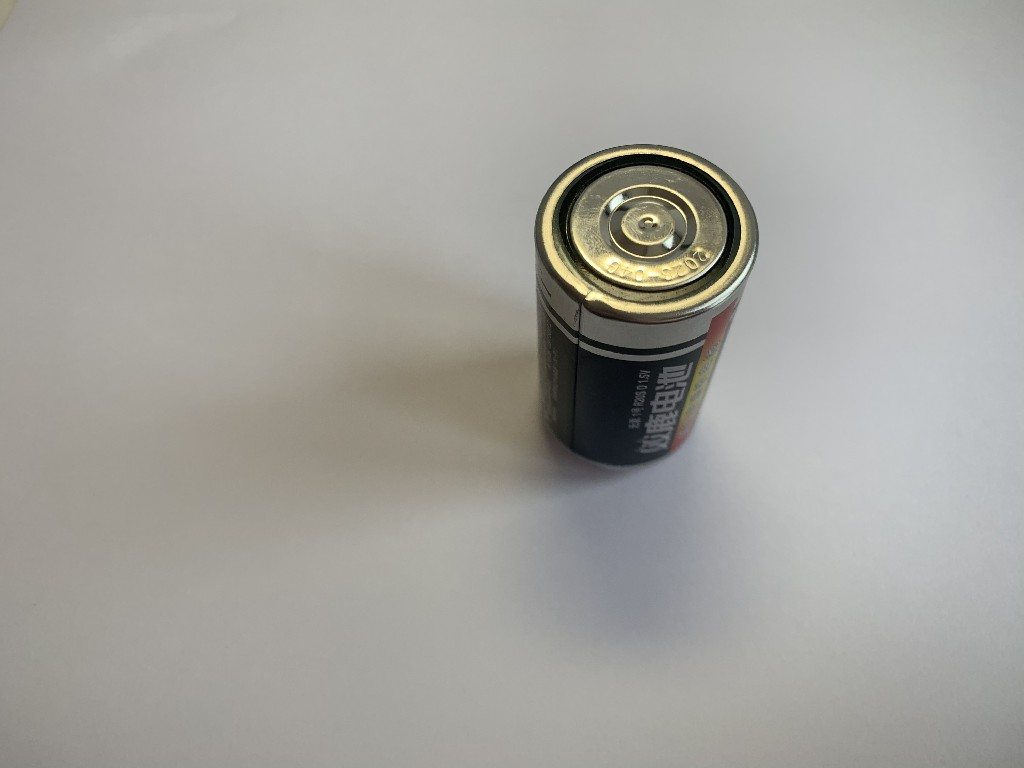charge: (531, 134, 766, 477)
